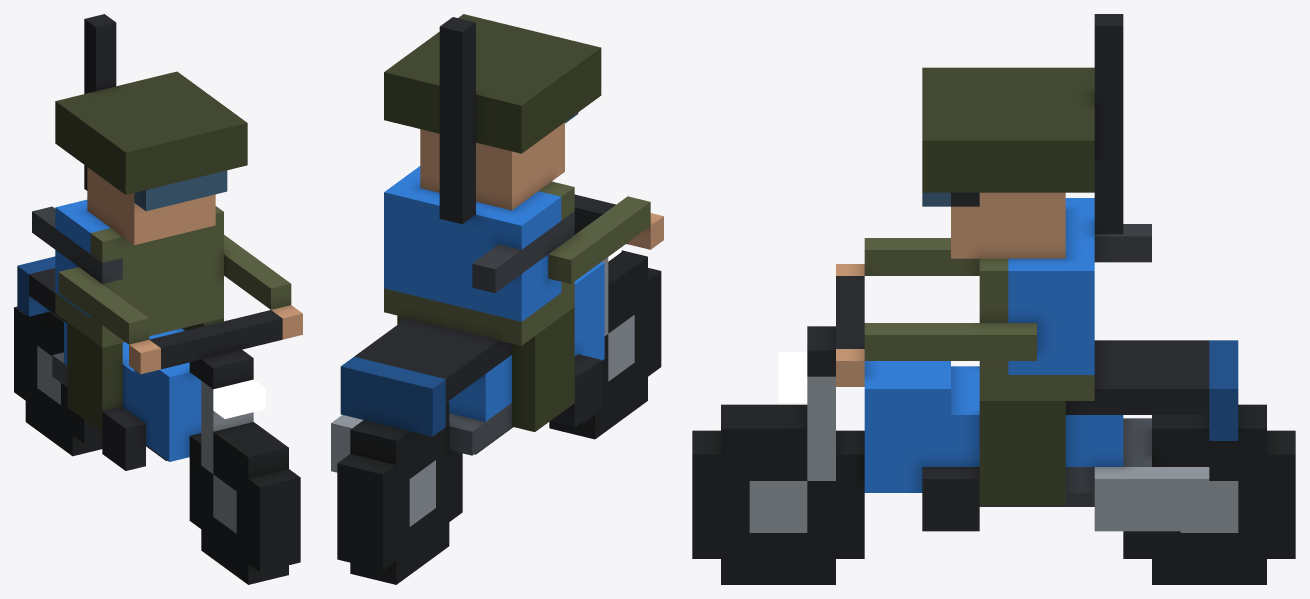
The model's file is cm_scout_1.glb.
The picture shows the model from 3 angles, left to right: view 1: azimuth 30°, elevation 25°; view 2: azimuth 150°, elevation 25°; view 3: azimuth 270°, elevation 25°; orthographic projection. The views are drawn at different scales.
Visible parts, largest first — view 1: cm_scout_1_body; view 2: cm_scout_1_body; view 3: cm_scout_1_body.
Part boxes in pixels (x1=…): cm_scout_1_body: x1=14, y1=14, x2=302, y2=584; cm_scout_1_body: x1=331, y1=14, x2=663, y2=584; cm_scout_1_body: x1=692, y1=14, x2=1295, y2=584.
Bounding box in the file's own units: 0.5 × 1.31 × 1.31.
1 material, 1 textured.
